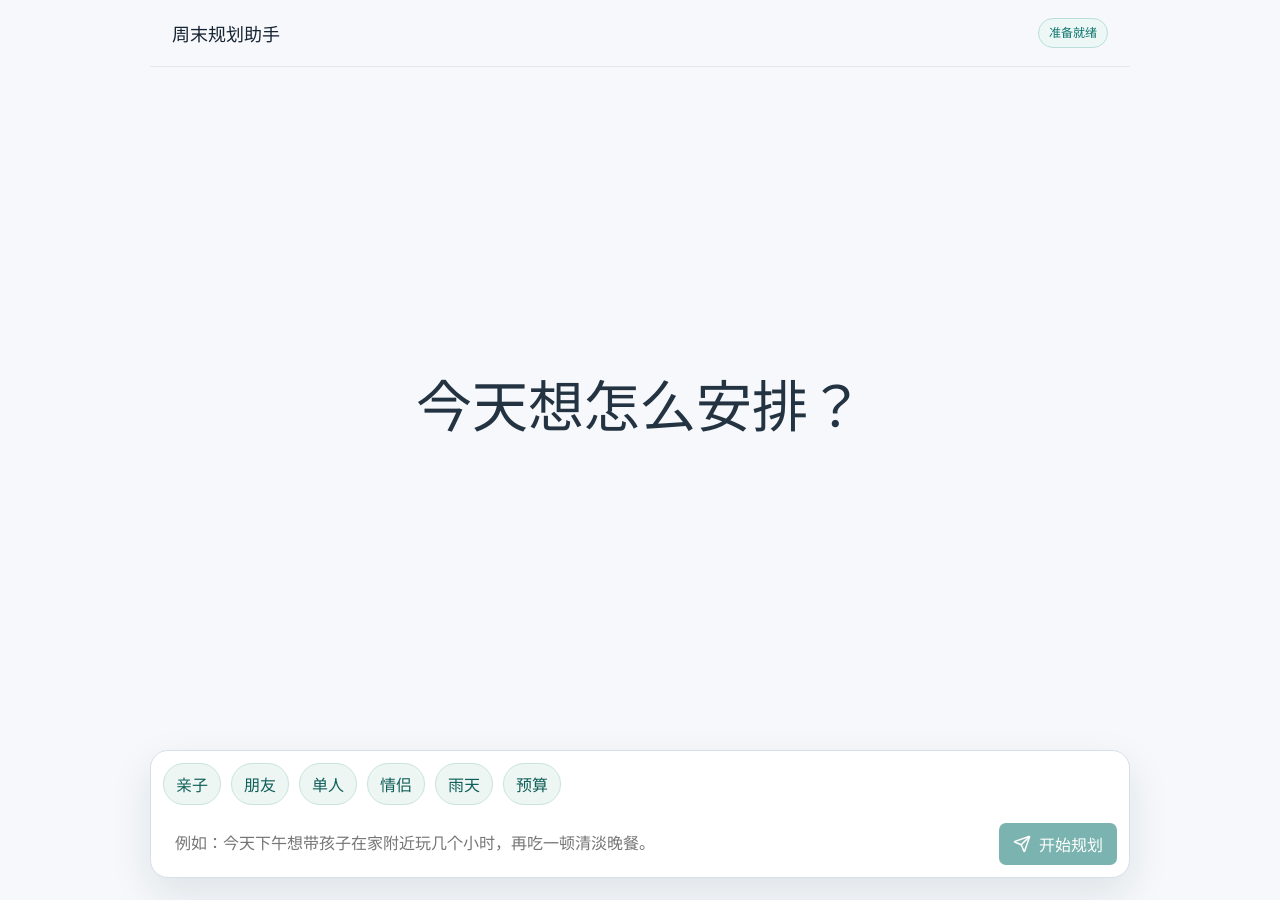
App › hides the scenario selector when the run enters clarification mode
Type "Need a plan" into the text box with test id "main-composer-input". click: (576,841)
box: x1=163 y1=817 x2=989 y2=865
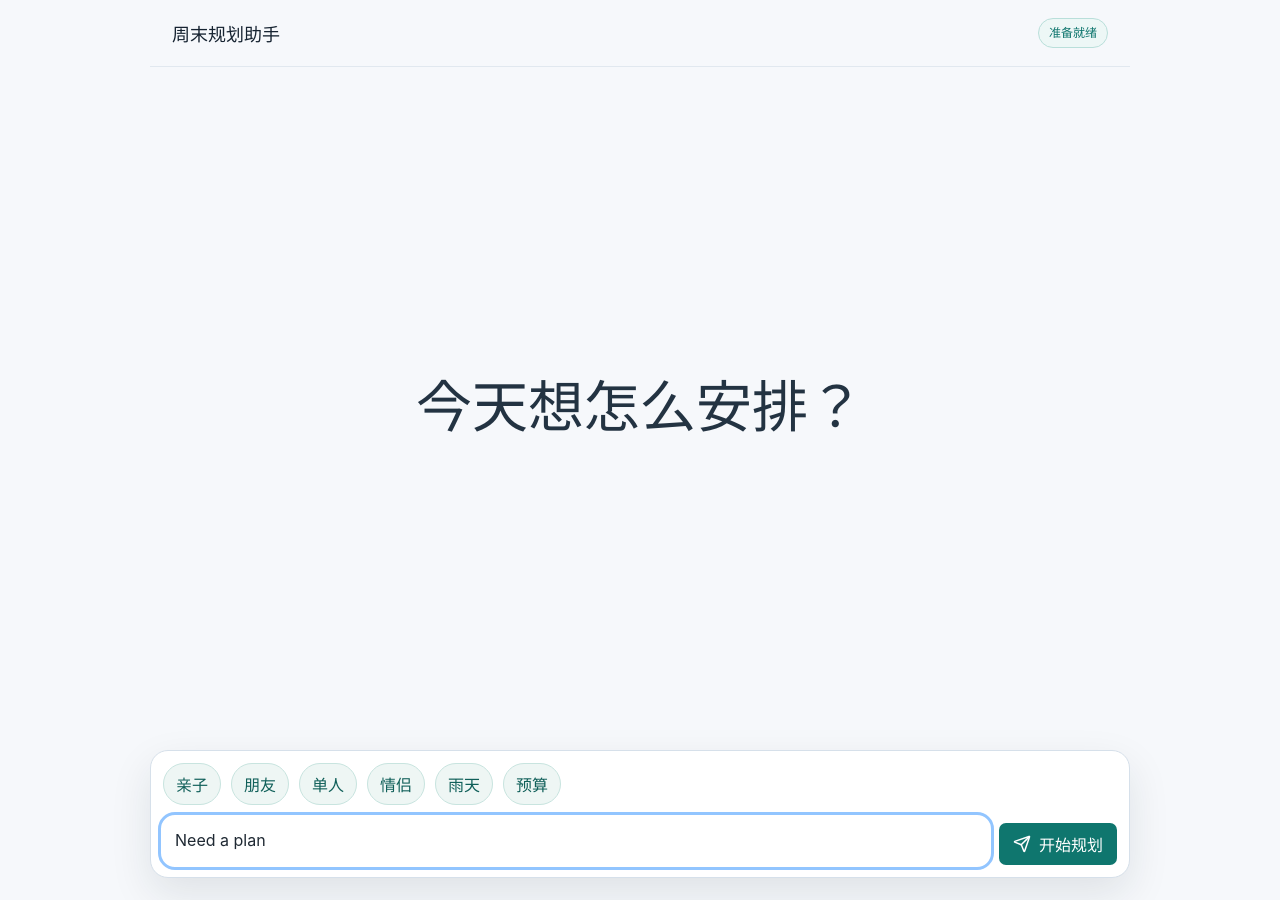
Click the button with test id "start-button". click: (1058,844)
box: x1=999 y1=823 x2=1117 y2=865
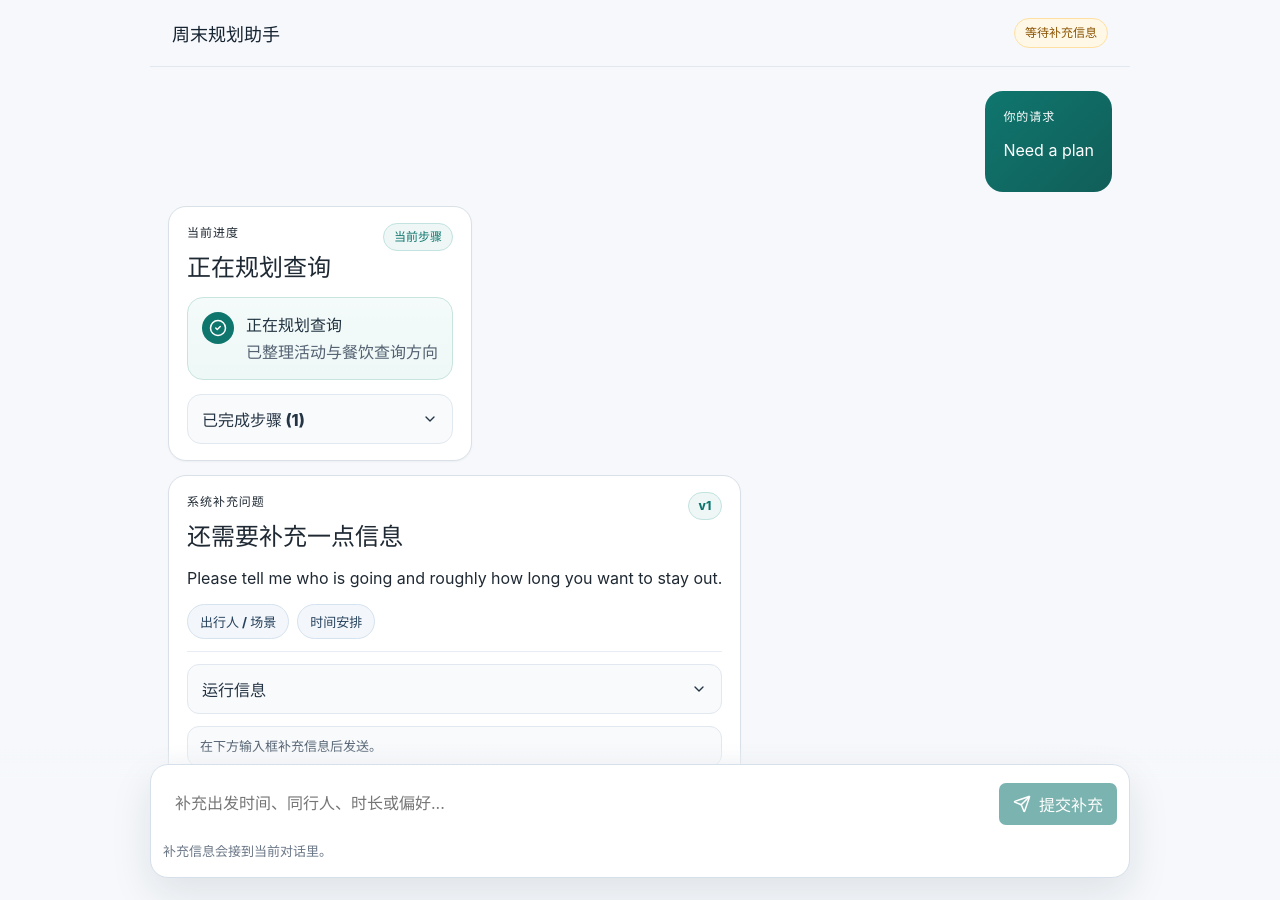
Now the element with test id "clarification-card" is shown, box x1=168 y1=475 x2=741 y2=784
Now the element with test id "scenario-selector" is gone
